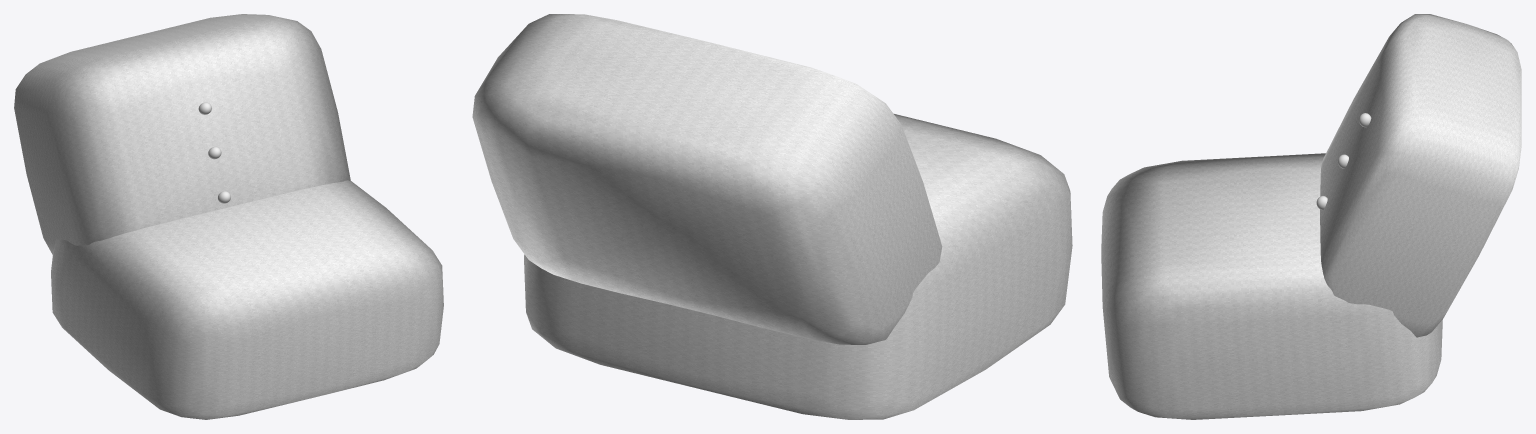
3 renders of one model, left to right at view 1: azimuth 30°, elevation 25°; view 2: azimuth 150°, elevation 25°; view 3: azimuth 270°, elevation 25°, orthographic. The views are drawn at different scales.
Parts seen in each view (by area): view 1: 1 seat, 2 backrest; view 2: 2 backrest, 1 seat; view 3: 1 seat, 2 backrest.
Boxes of the visible parts, bbox=[...] form: 1 seat: bbox=[51, 180, 443, 419]; 2 backrest: bbox=[14, 14, 350, 254]; 2 backrest: bbox=[472, 14, 942, 344]; 1 seat: bbox=[524, 114, 1072, 419]; 1 seat: bbox=[1101, 153, 1442, 419]; 2 backrest: bbox=[1320, 14, 1521, 337].
Bounding box in the file's own units: 0.5842 × 0.508 × 0.6604.
2 materials, 2 textured.
